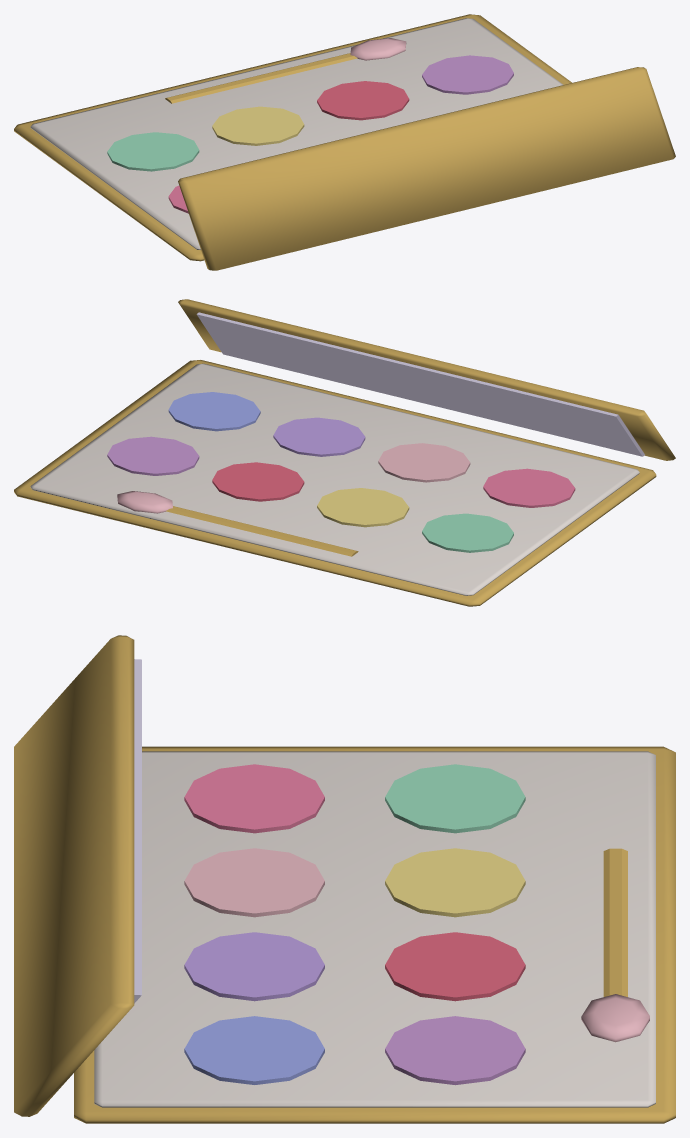
Rendered from makeup_palette.glb.
3 renders of one model, top to bottom at view 1: azimuth 30°, elevation 25°; view 2: azimuth 150°, elevation 25°; view 3: azimuth 270°, elevation 25°, orthographic. The views are drawn at different scales.
Visible parts, largest first — view 1: makeup_palette; view 2: makeup_palette; view 3: makeup_palette.
Boxes of the visible parts, bbox=[...] form: makeup_palette: bbox=[14, 14, 675, 270]; makeup_palette: bbox=[14, 299, 675, 606]; makeup_palette: bbox=[14, 635, 675, 1123].
Size of what is drawn, in the model's own units: 0.4 by 0.06 by 0.3.
